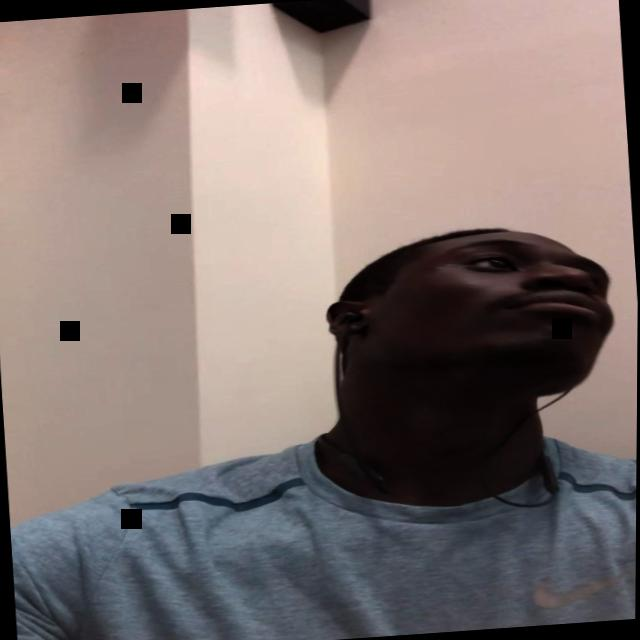NO-Mask: (340, 222, 621, 408)
